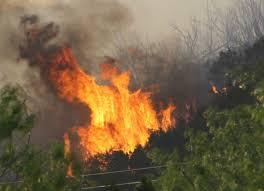fire: (46, 42, 176, 161)
